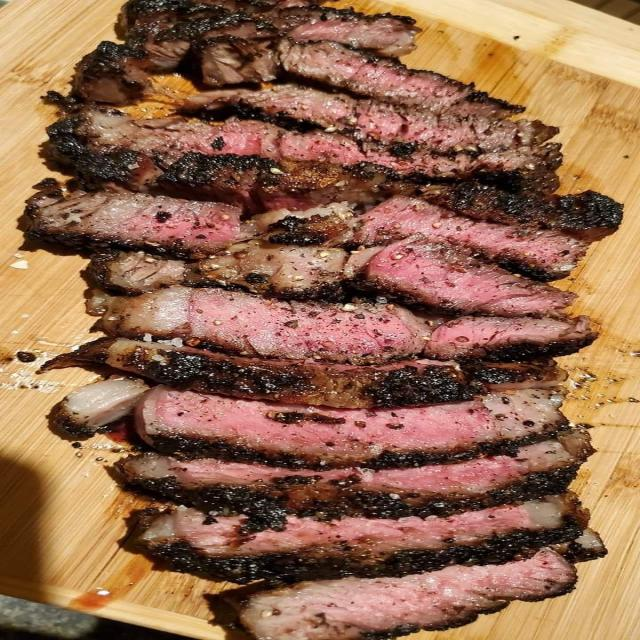beef steak: (49, 72, 563, 210), (112, 430, 592, 519), (138, 496, 587, 584), (134, 386, 564, 470), (44, 338, 560, 408), (50, 108, 528, 178), (241, 550, 576, 640), (97, 286, 430, 364), (100, 286, 427, 364), (183, 84, 557, 152), (71, 148, 416, 214), (344, 196, 588, 281), (277, 39, 523, 115), (26, 181, 248, 258), (90, 240, 348, 302), (364, 240, 572, 316), (39, 103, 207, 194), (422, 181, 622, 242), (423, 316, 596, 362), (265, 6, 420, 56), (145, 12, 276, 70), (204, 155, 323, 208), (52, 378, 148, 439), (120, 0, 284, 35), (73, 41, 152, 104), (192, 35, 276, 88), (252, 203, 355, 245), (205, 586, 256, 640), (476, 162, 559, 194), (315, 166, 401, 195), (555, 528, 607, 562), (118, 508, 156, 552), (345, 246, 383, 278), (41, 92, 77, 112)
